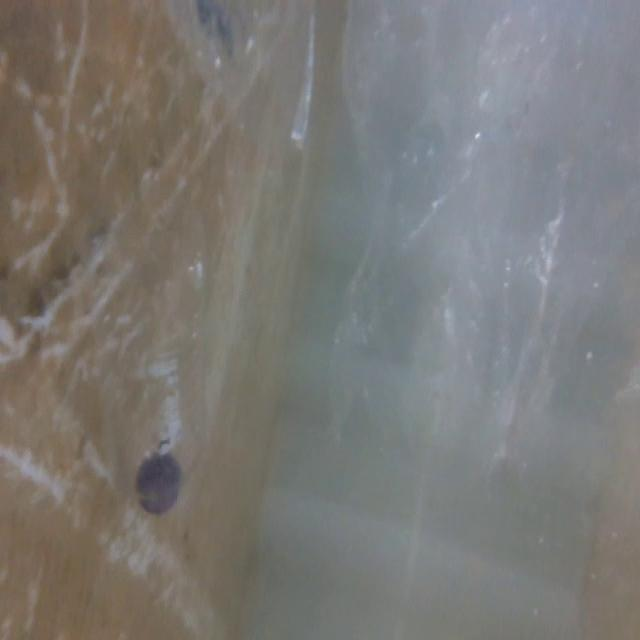plastic bags: (325, 0, 613, 450), (157, 0, 320, 153)
plastic bottle: (75, 174, 216, 542)
